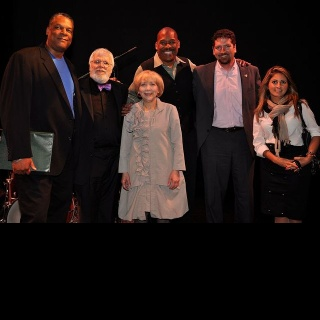without_mask: (88, 49, 115, 85), (48, 14, 74, 51), (156, 30, 177, 61), (214, 36, 234, 65), (268, 70, 288, 97), (139, 76, 157, 101)
